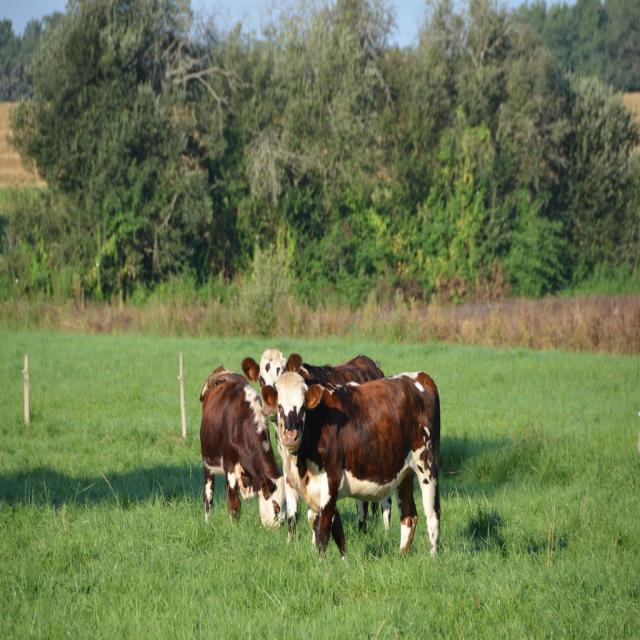Cattle: (198, 348, 442, 566)
